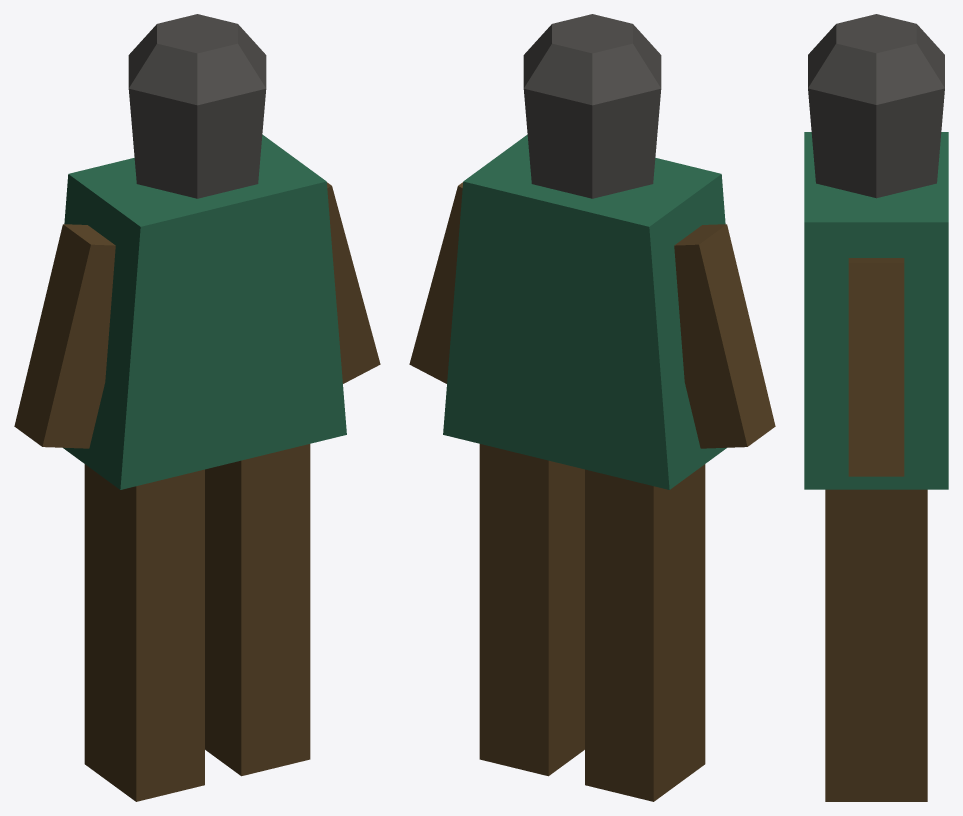
File: scale_figure.glb
3 renders of one model, left to right at view 1: azimuth 30°, elevation 25°; view 2: azimuth 150°, elevation 25°; view 3: azimuth 270°, elevation 25°, orthographic.
Parts seen in each view (by area): view 1: scale_figure; view 2: scale_figure; view 3: scale_figure.
Boxes of the visible parts, left/top/right/bottom form: scale_figure: left=14, top=14, right=380, bottom=801; scale_figure: left=409, top=14, right=775, bottom=801; scale_figure: left=804, top=14, right=948, bottom=801.
Size of the model in its own units: 0.8359 by 1.72 by 0.31.
